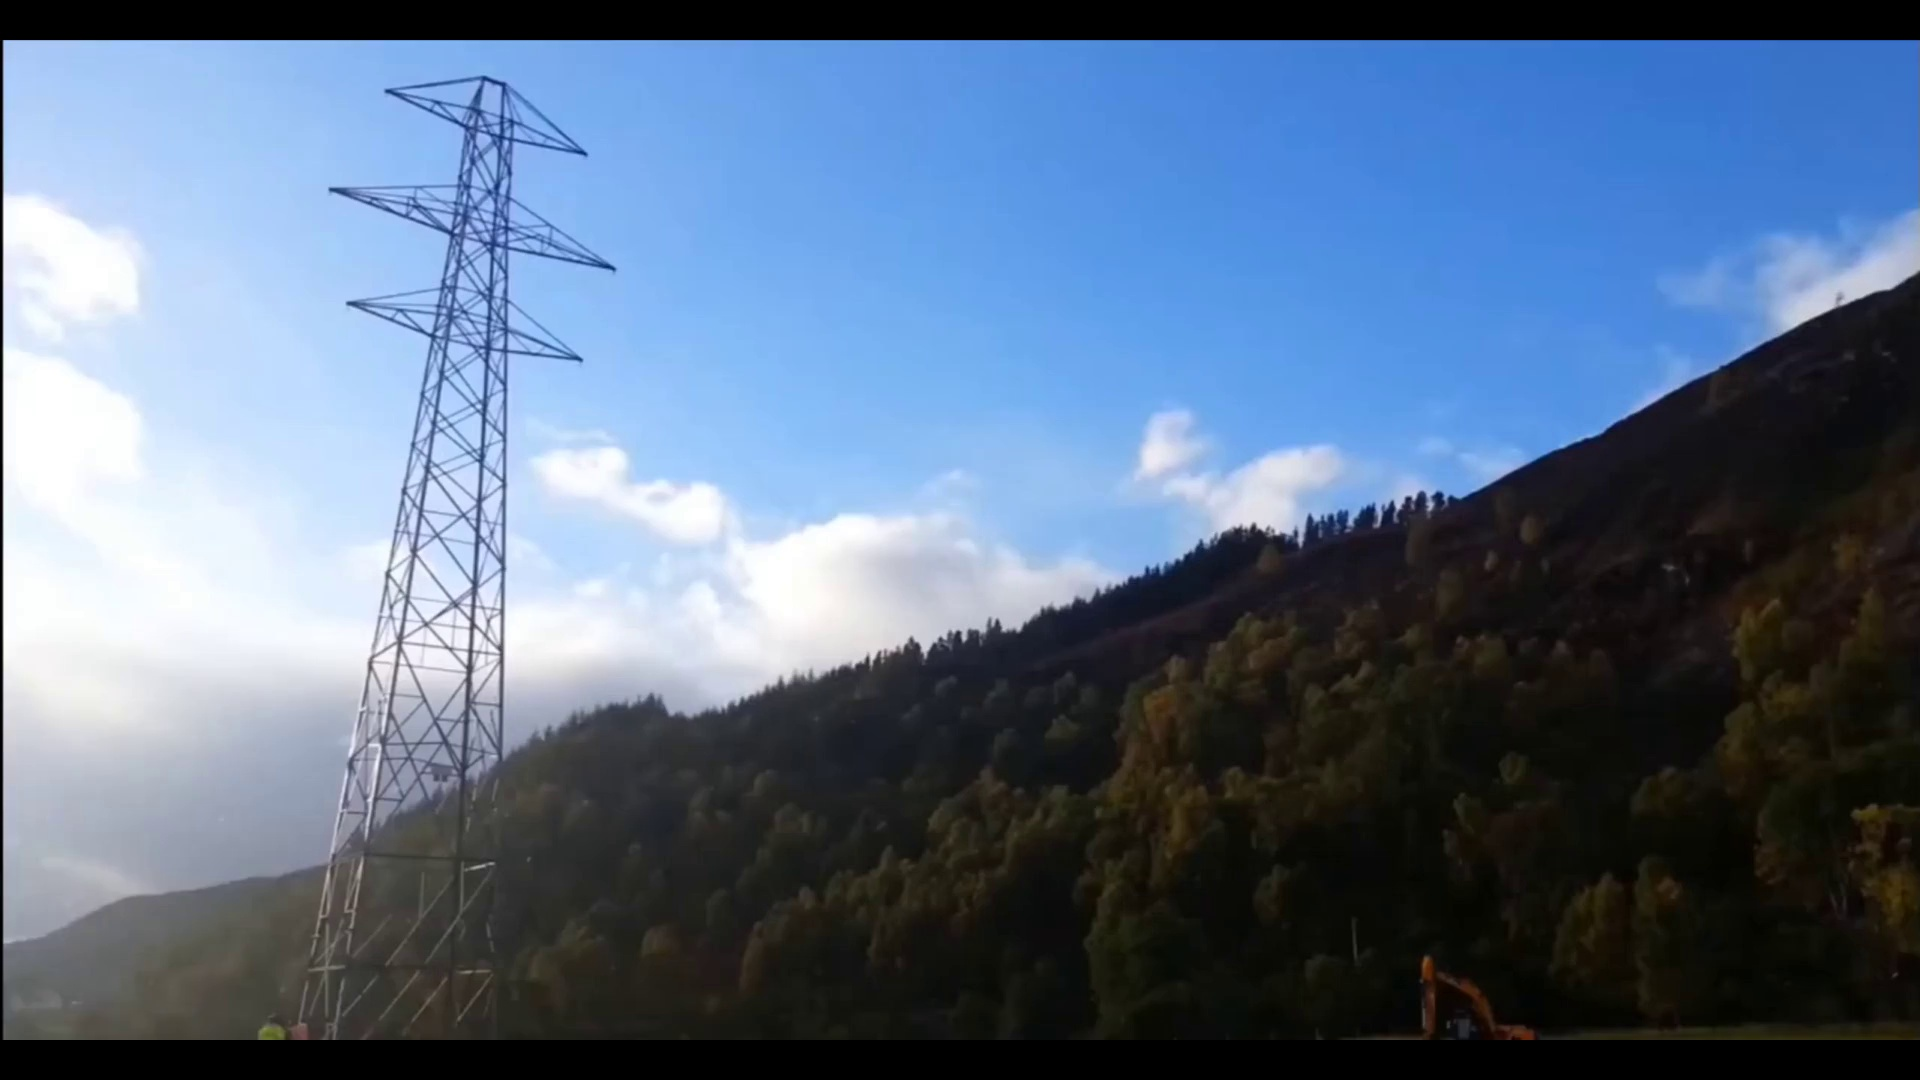tower_up: (301, 53, 611, 1038)
